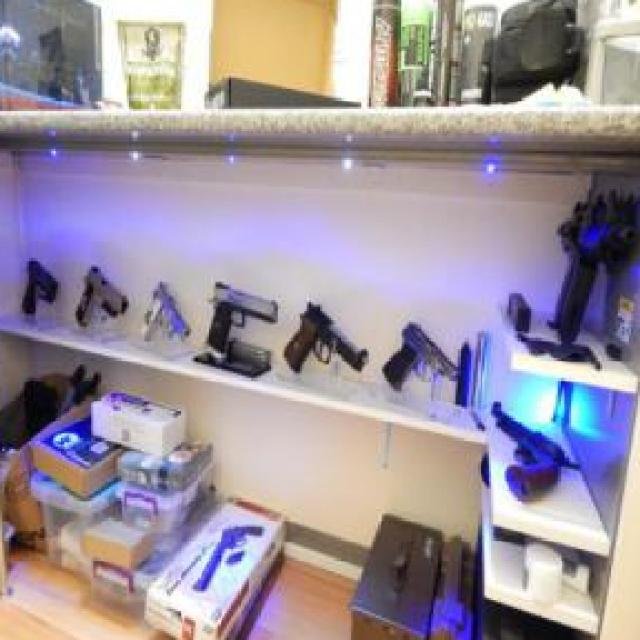pistol: (489, 400, 577, 531), (204, 276, 280, 392), (384, 314, 454, 414), (289, 300, 364, 382), (129, 284, 193, 352), (78, 260, 124, 339), (15, 245, 59, 326)
